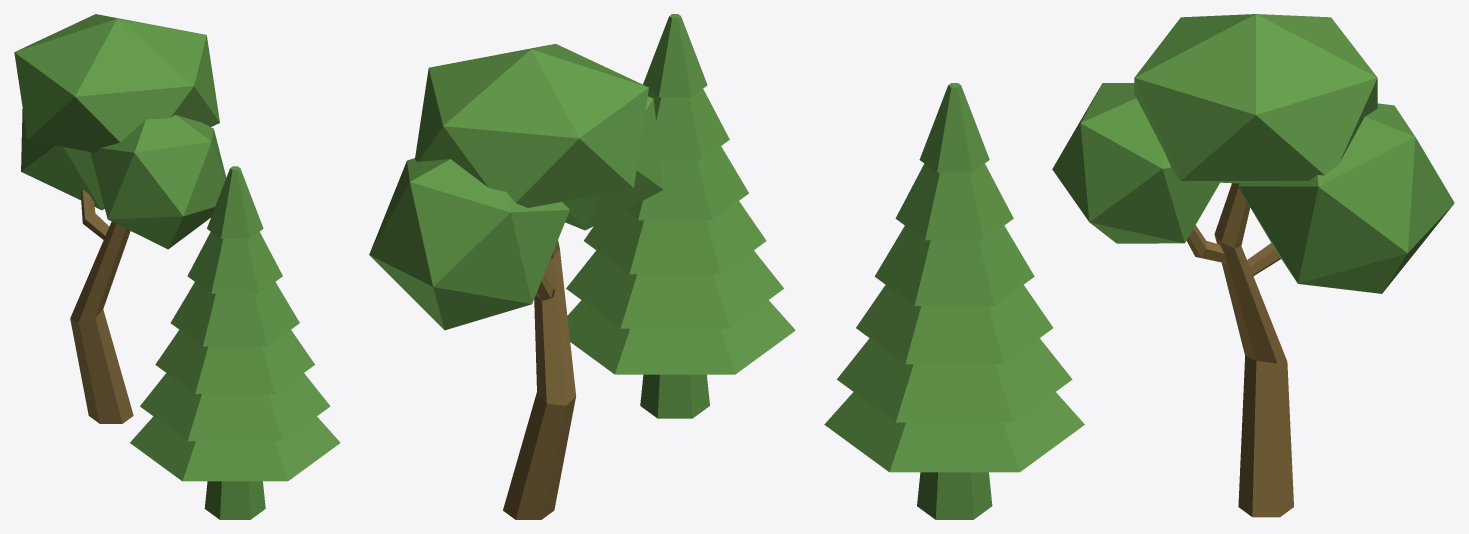
The model's file is trees2.fbx.
3 renders of one model, left to right at view 1: azimuth 30°, elevation 25°; view 2: azimuth 150°, elevation 25°; view 3: azimuth 270°, elevation 25°, orthographic. The views are drawn at different scales.
Visible parts, largest first — view 1: Cylinder, Icosphere.002, Icosphere.001, Cylinder.001, Icosphere; view 2: Cylinder, Icosphere.002, Icosphere, Cylinder.001, Icosphere.001; view 3: Cylinder, Icosphere.002, Icosphere, Icosphere.001, Cylinder.001.
Part boxes in pixels (x1,y1,x2,y2): Cylinder: (130, 166, 340, 519); Icosphere.002: (14, 14, 219, 152); Icosphere.001: (90, 115, 226, 249); Cylinder.001: (70, 189, 133, 423); Icosphere: (21, 109, 104, 210); Cylinder: (566, 14, 795, 418); Icosphere.002: (415, 44, 648, 207); Icosphere: (369, 158, 569, 330); Cylinder.001: (503, 240, 575, 519); Icosphere.001: (562, 96, 663, 230); Cylinder: (824, 83, 1084, 519); Icosphere.002: (1134, 14, 1377, 183); Icosphere: (1238, 103, 1454, 293); Icosphere.001: (1052, 83, 1219, 243); Cylinder.001: (1186, 183, 1293, 517).
Bounding box in the file's own units: 287 × 613 × 708.
